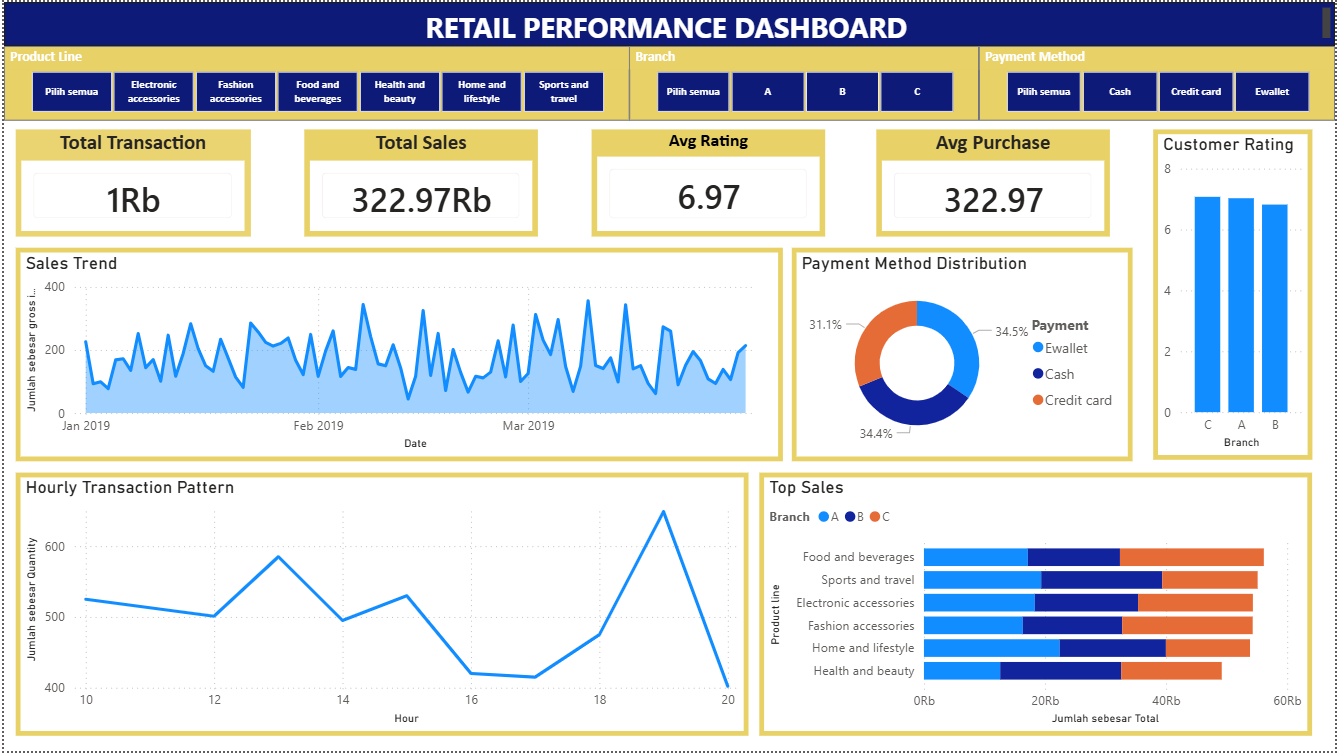

The dashboard page shown, as its layout file describes it:
{"tool":"powerbi","page":{"name":"Halaman 1","canvas":[1280,720],"ordinal":0},"visuals":[{"type":"areaChart","title":"Sales Trend","fields":{"Y":["Sum(Data_Cleaned.gross income)"],"Category":["Data_Cleaned.Date"]},"box":[11,235.7,737.8,205],"z":0},{"type":"donutChart","title":"Payment Method Distribution","fields":{"Category":["Data_Cleaned.Payment"],"Y":["CountNonNull(Data_Cleaned.Product line)"]},"box":[757.5,235.7,327.8,205],"z":1000},{"type":"clusteredColumnChart","title":"Customer Rating","fields":{"Category":["Data_Cleaned.Branch"],"Y":["Avg(Data_Cleaned.Rating)"]},"box":[1104.9,122.8,153.5,318],"z":2000},{"type":"lineChart","title":"Hourly Transaction Pattern","fields":{"Category":["Data_Cleaned.Hour"],"Y":["Sum(Data_Cleaned.Quantity)"]},"box":[11,453,704.7,252.9],"z":3000},{"type":"barChart","title":"Top Sales","fields":{"Category":["Data_Cleaned.Product line"],"Y":["Sum(Data_Cleaned.Total)"],"Series":["Data_Cleaned.Branch"]},"box":[726.8,453,531.6,252.9],"z":5000},{"type":"textbox","box":[0,0,1280.5,42.4],"z":6000},{"type":"cardVisual","title":"Total Sales","fields":{"Data":["Sum(Data_Cleaned.Total)"]},"box":[288.5,122.8,224.7,103.1],"z":7000},{"type":"cardVisual","title":"Total Transaction","fields":{"Data":["CountNonNull(Data_Cleaned.Product line)"]},"box":[11,122.8,225.9,103.1],"z":8000},{"type":"cardVisual","title":"Avg Rating","fields":{"Data":["Avg(Data_Cleaned.Rating)"]},"box":[564.7,122.8,224.7,103.1],"z":9000},{"type":"cardVisual","title":"Avg Purchase","fields":{"Data":["Avg(Data_Cleaned.Total)"]},"box":[838.5,122.8,224.7,103.1],"z":10000},{"type":"slicer","title":"Payment Method","fields":{"Values":["Data_Cleaned.Payment"]},"box":[937.9,43,342.5,71.2],"z":11000},{"type":"slicer","title":"Branch","fields":{"Values":["Data_Cleaned.Branch"]},"box":[601.5,43,336.4,71.2],"z":12000},{"type":"slicer","title":"Product Line","fields":{"Values":["Data_Cleaned.Product line"]},"box":[0,43,601.5,71.2],"z":13000}]}

Visuals, with their boxes in screenshot pixels (x1, y1, x2, y2), scaled from the page's 1280x720 canvas onto the 1339x754 screenshot:
"Sales Trend" areaChart: (x1=12, y1=247, x2=783, y2=462)
"Payment Method Distribution" donutChart: (x1=792, y1=247, x2=1135, y2=462)
"Customer Rating" clusteredColumnChart: (x1=1156, y1=129, x2=1316, y2=462)
"Hourly Transaction Pattern" lineChart: (x1=12, y1=474, x2=749, y2=739)
"Top Sales" barChart: (x1=760, y1=474, x2=1316, y2=739)
textbox: (x1=0, y1=0, x2=1338, y2=44)
"Total Sales" cardVisual: (x1=302, y1=129, x2=537, y2=237)
"Total Transaction" cardVisual: (x1=12, y1=129, x2=248, y2=237)
"Avg Rating" cardVisual: (x1=591, y1=129, x2=826, y2=237)
"Avg Purchase" cardVisual: (x1=877, y1=129, x2=1112, y2=237)
"Payment Method" slicer: (x1=981, y1=45, x2=1338, y2=120)
"Branch" slicer: (x1=629, y1=45, x2=981, y2=120)
"Product Line" slicer: (x1=0, y1=45, x2=629, y2=120)
